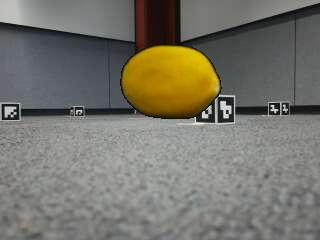lemon: (120, 46, 219, 118)
